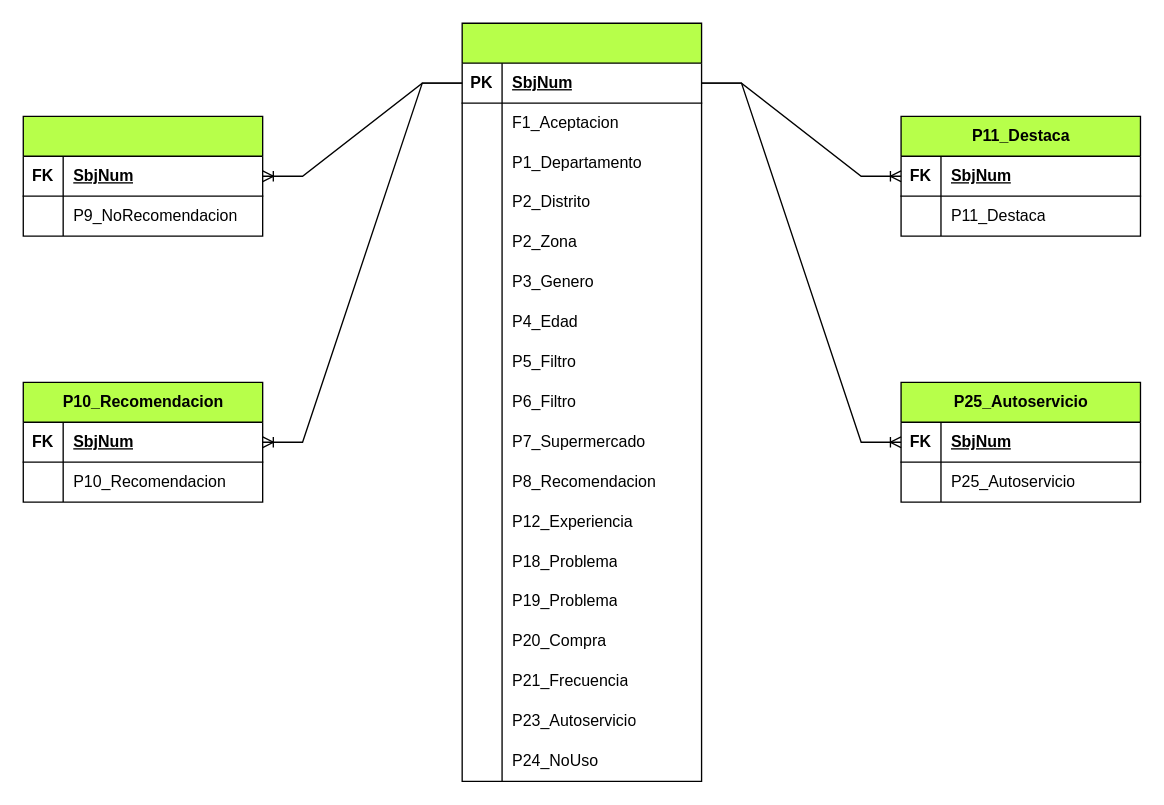
Image size: 1164x805. Some labels were removed from this diagram. Each missing label, with the box of its shape:
Encuestas: (461, 22, 702, 781)
P9_No_Recomienda: (22, 115, 263, 236)
